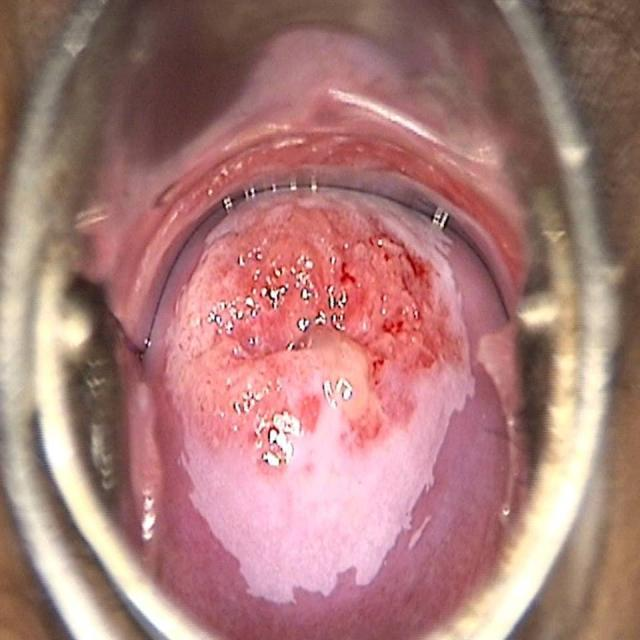cervical_lesion: (159, 190, 484, 597)
